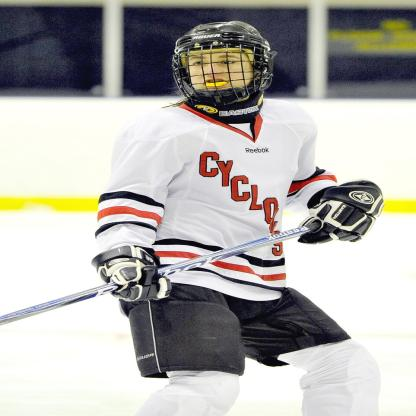Helmet: (172, 19, 276, 110)
